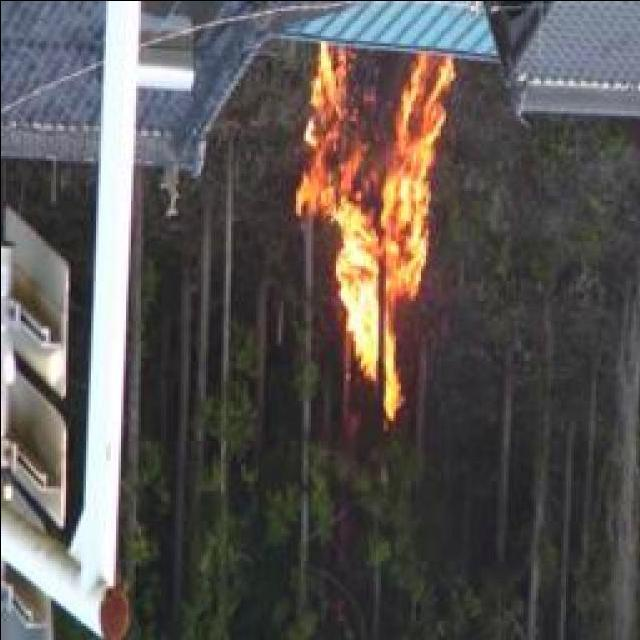Fire: (298, 41, 451, 414)
